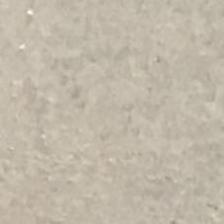Non_Crack: (7, 1, 224, 215)
